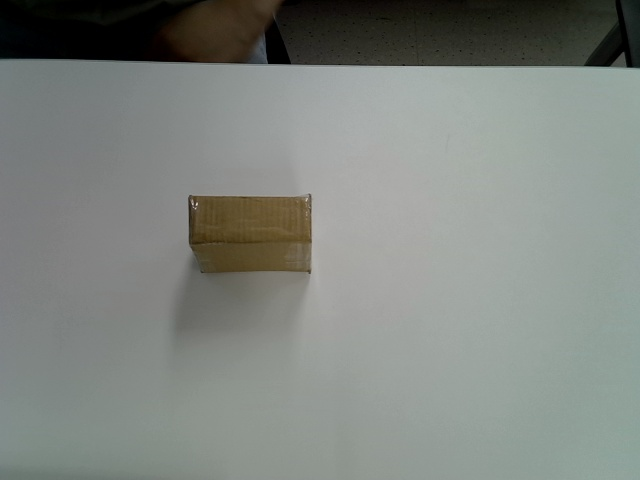normal: (187, 194, 313, 275)
